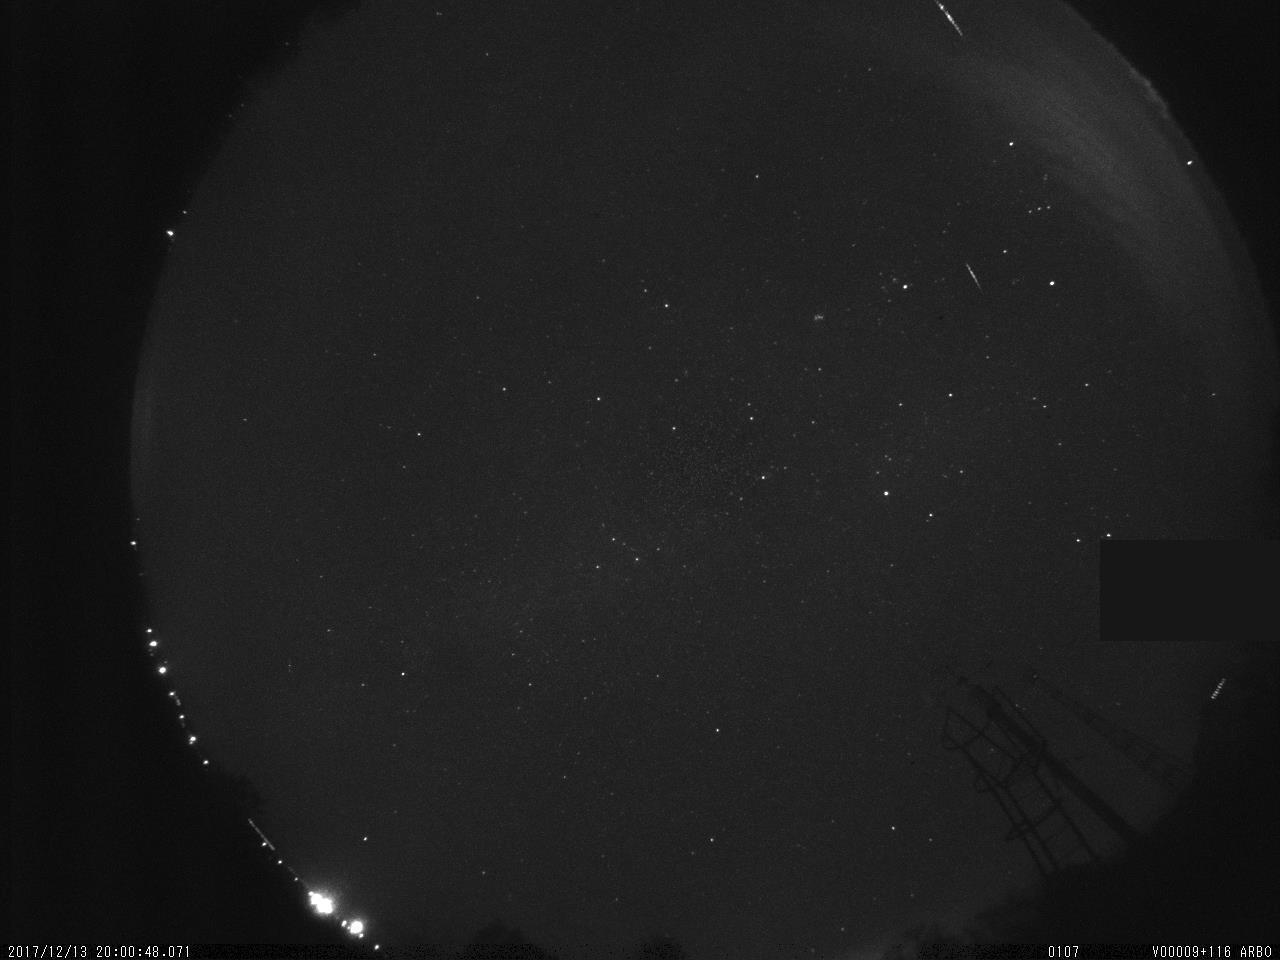meteor: (962, 261, 987, 298)
